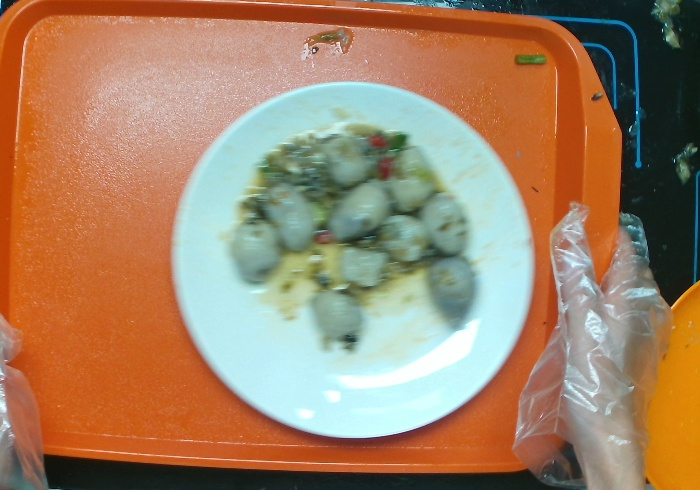HZYJPL-Bai_Se_Yuan_Pan: (163, 75, 541, 445)
